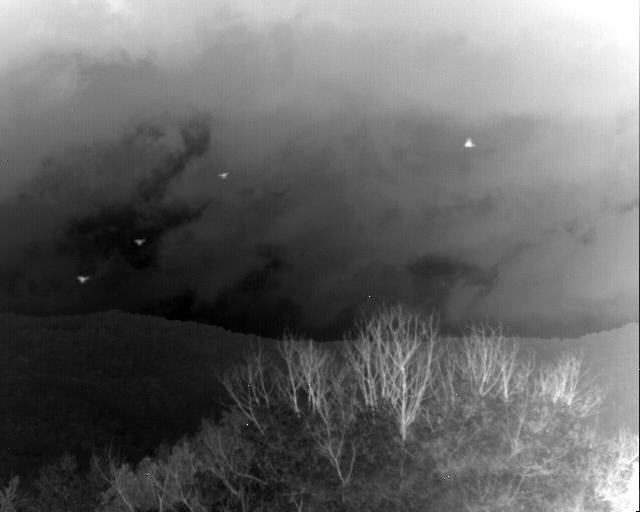plane: (77, 276, 89, 283), (135, 238, 145, 245), (219, 171, 229, 177)
